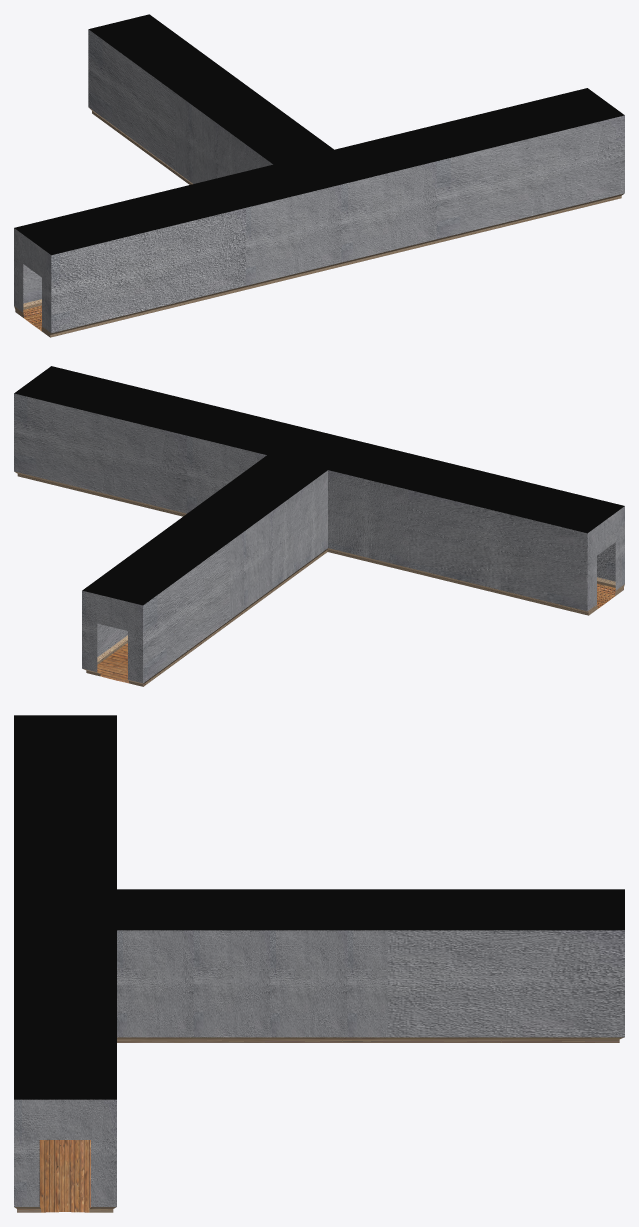
File: Corridoio.fbx
The picture shows the model from 3 angles, top to bottom: view 1: azimuth 30°, elevation 25°; view 2: azimuth 150°, elevation 25°; view 3: azimuth 270°, elevation 25°; orthographic projection. The views are drawn at different scales.
Parts seen in each view (by area): view 1: Cube; view 2: Cube; view 3: Cube.
Part boxes in pixels (bbox=[...]): Cube: bbox=[14, 14, 624, 337]; Cube: bbox=[14, 366, 624, 686]; Cube: bbox=[14, 715, 624, 1212].
Size of the model in its own units: 5973 by 828 by 4011.
4 materials, 3 textured.
